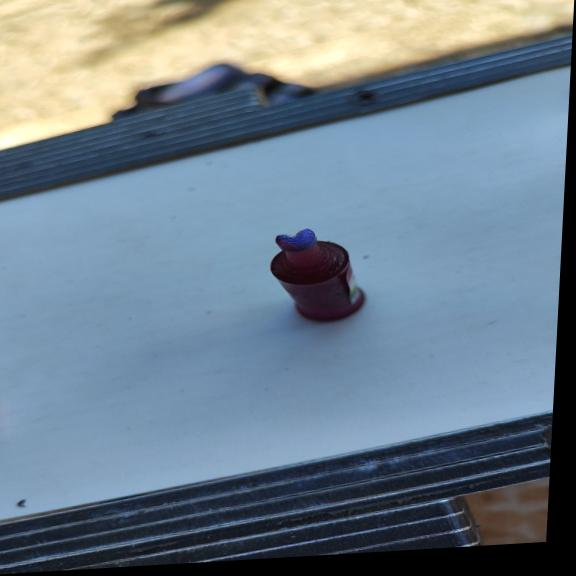Plastik: (267, 225, 373, 327)
